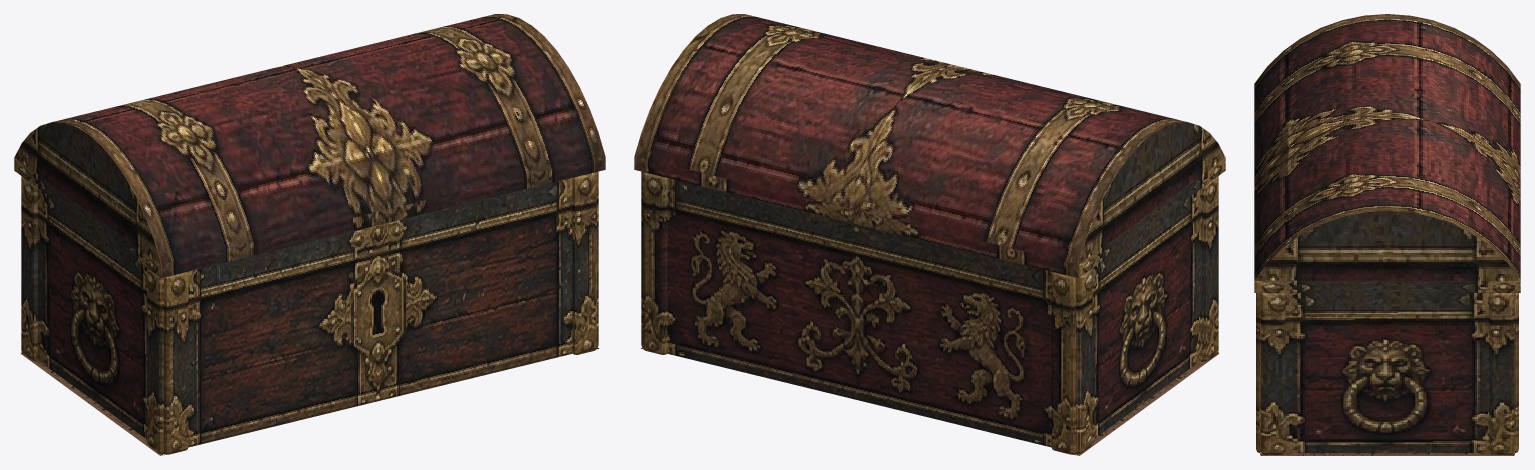
File: chest_domed_red.glb
3 views of the same model, side by side, from view 1: azimuth 30°, elevation 25°; view 2: azimuth 150°, elevation 25°; view 3: azimuth 270°, elevation 25° (orthographic). The views are drawn at different scales.
Visible parts, largest first — view 1: body, lid; view 2: body, lid; view 3: lid, body.
Part boxes in pixels (x1,y1,x2,y2): body: [20, 171, 598, 455]; lid: [14, 14, 605, 278]; body: [641, 171, 1219, 455]; lid: [634, 14, 1225, 278]; lid: [1254, 14, 1520, 292]; body: [1256, 293, 1518, 455].
Size of the model in its own units: 1.03 by 0.6 by 0.588.
1 material, 1 textured.
